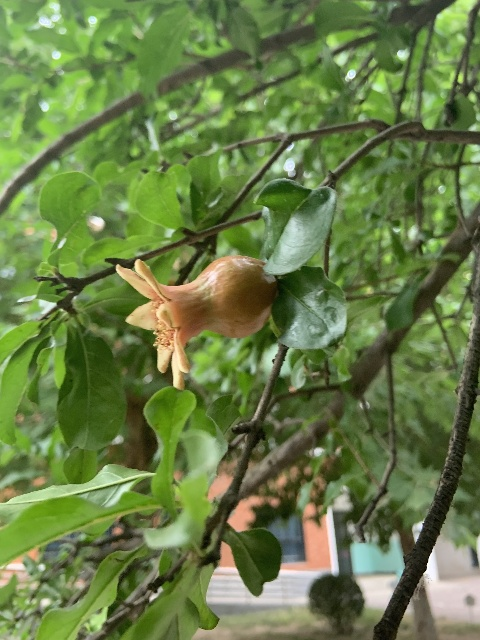early-fruit: (116, 254, 276, 390)
